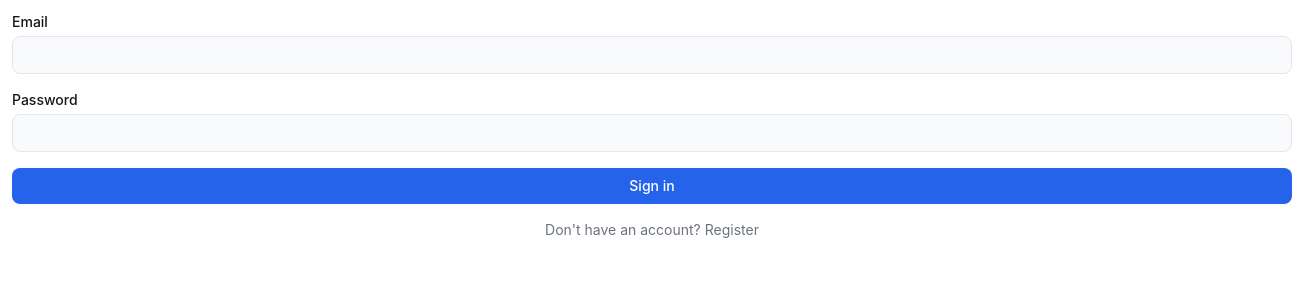
LoginForm › shows validation errors for empty fields on submit
Click the button "Sign in" at (652, 186), box [12,168,1292,204]
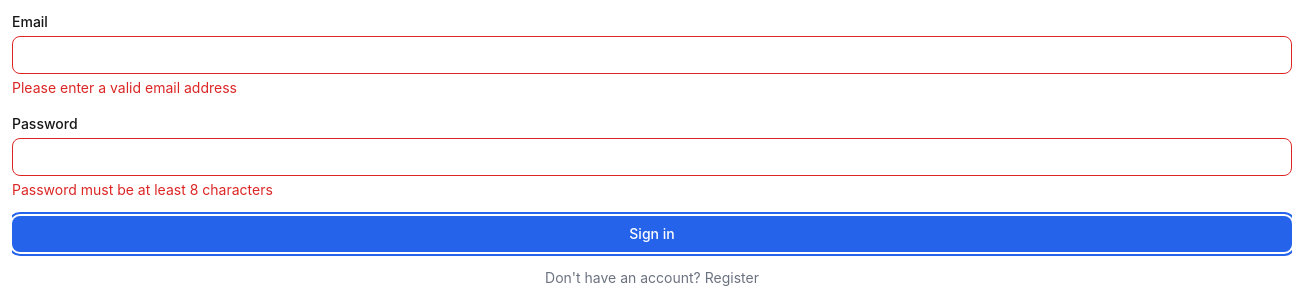
Expected: the text "Please enter a valid email address" is shown, [12,79,237,96]
Expected: the text "Password must be at least 8 characters" is shown, [12,181,273,198]
